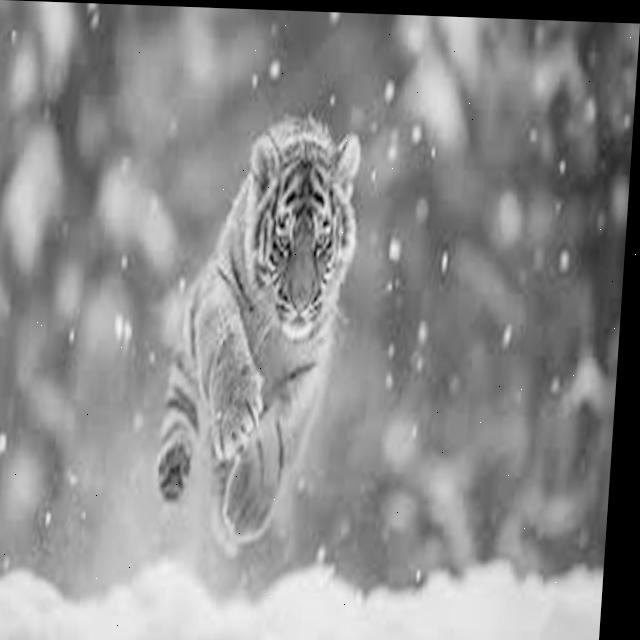Tiger: (148, 108, 366, 549)
